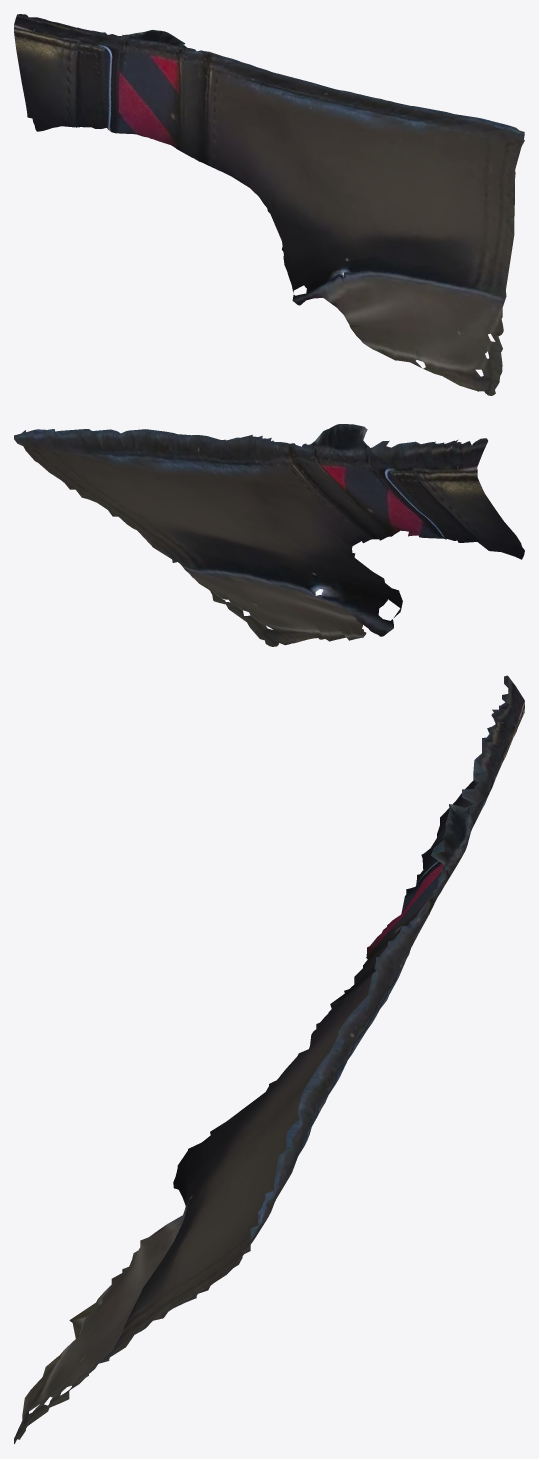
Rendered from observed-surface.glb.
3 renders of one model, top to bottom at view 1: azimuth 30°, elevation 25°; view 2: azimuth 150°, elevation 25°; view 3: azimuth 270°, elevation 25°, orthographic. The views are drawn at different scales.
Parts seen in each view (by area): view 1: geometry_0; view 2: geometry_0; view 3: geometry_0.
Part boxes in pixels (bbox=[...]): geometry_0: bbox=[14, 14, 524, 395]; geometry_0: bbox=[14, 424, 524, 646]; geometry_0: bbox=[14, 675, 524, 1443].
Size of the model in its own units: 0.599 by 0.4539 by 0.3966.
Materials: 1 (1 with a texture image).
